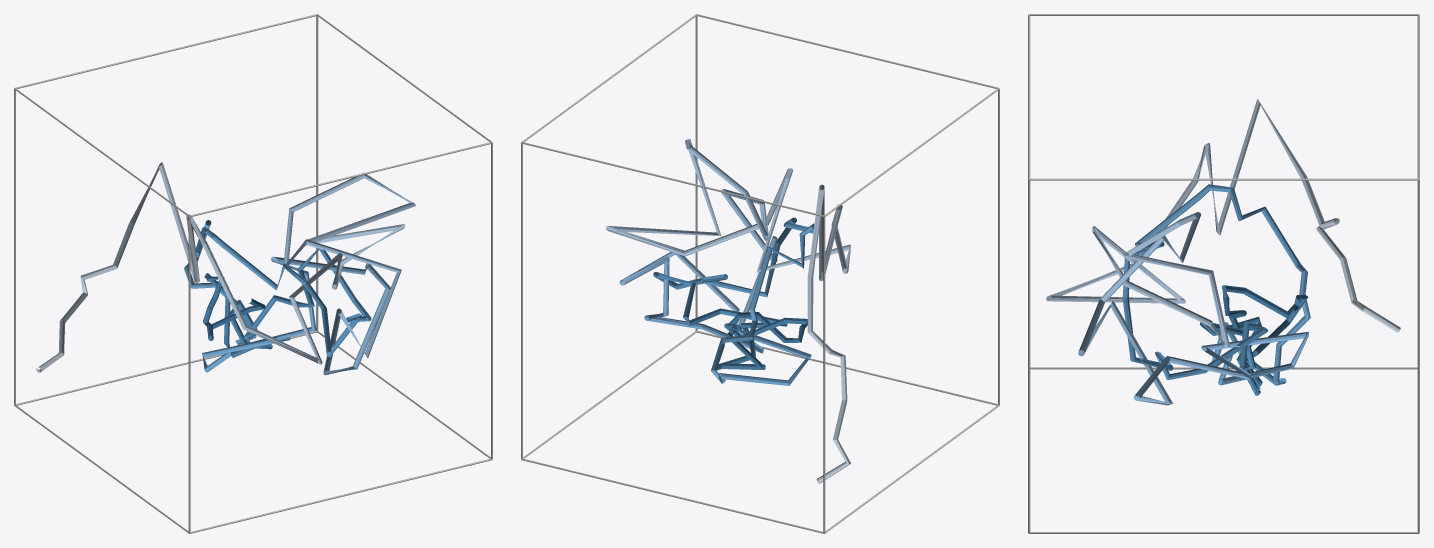
3 renders of one model, left to right at view 1: azimuth 30°, elevation 25°; view 2: azimuth 150°, elevation 25°; view 3: azimuth 270°, elevation 25°, orthographic. The views are drawn at different scales.
Parts seen in each view (by area): view 1: geometry_0, geometry_1; view 2: geometry_0, geometry_1; view 3: geometry_0, geometry_1.
Part boxes in pixels (bbox=[...]): geometry_0: bbox=[36, 162, 415, 375]; geometry_1: bbox=[14, 14, 492, 533]; geometry_0: bbox=[606, 139, 850, 483]; geometry_1: bbox=[521, 14, 999, 533]; geometry_0: bbox=[1046, 99, 1400, 405]; geometry_1: bbox=[1028, 14, 1419, 533].
Bounding box in the file's own units: 0.304 × 0.3014 × 0.3016.
